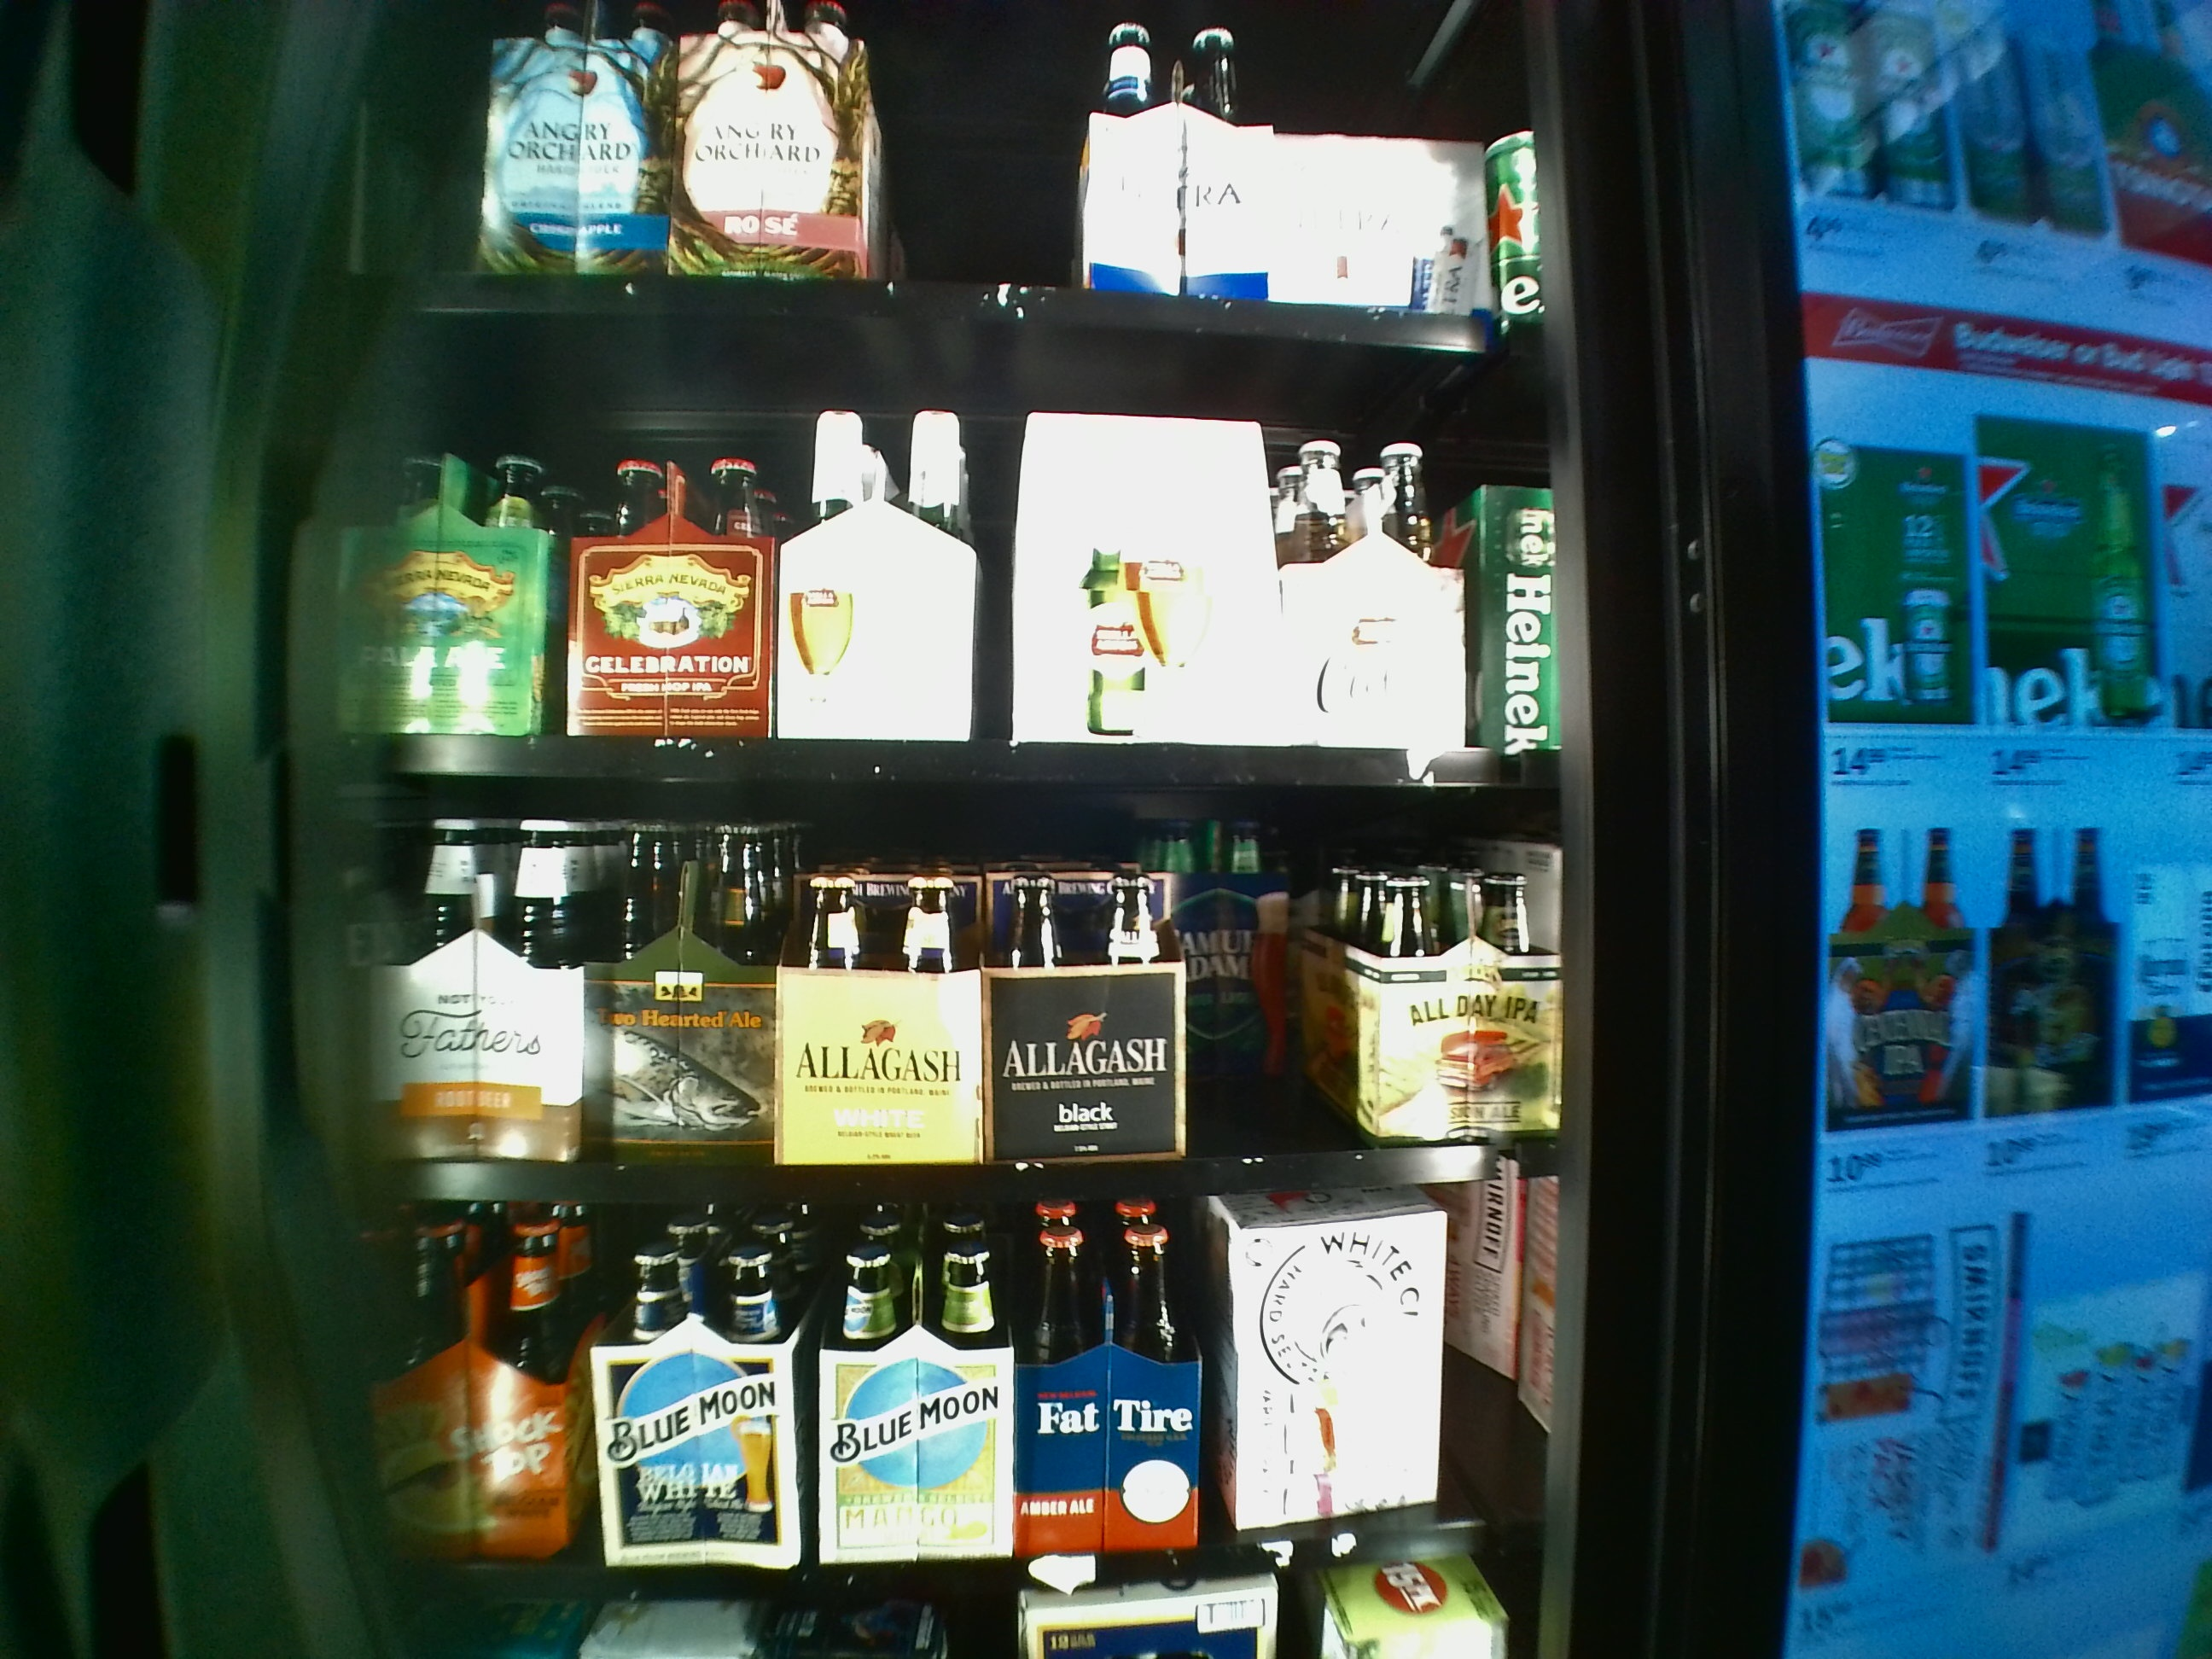shelf: (331, 319, 1555, 784), (334, 802, 1554, 1215)
